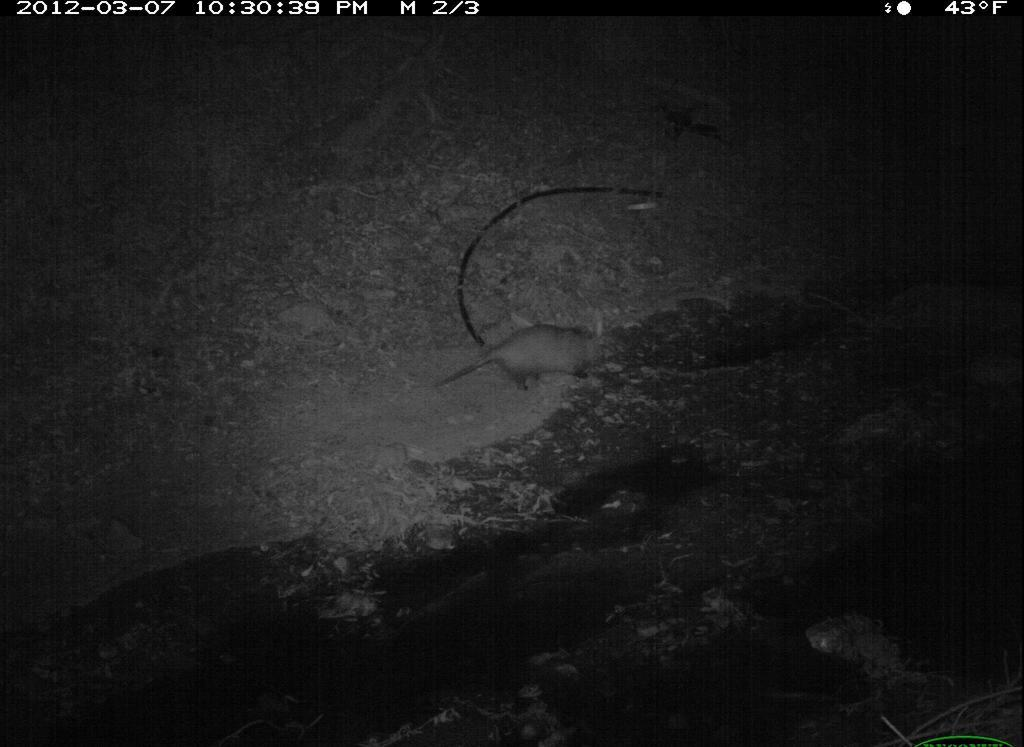opossum: (419, 309, 643, 410)
